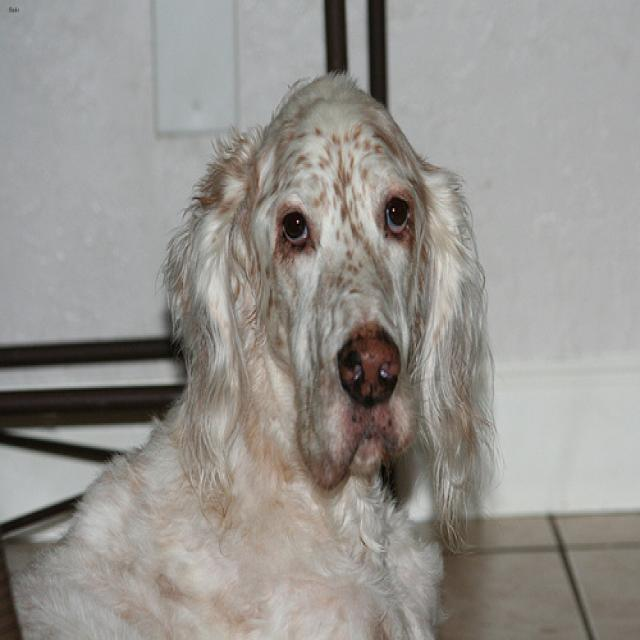dog-english_setter: (4, 56, 503, 636)
